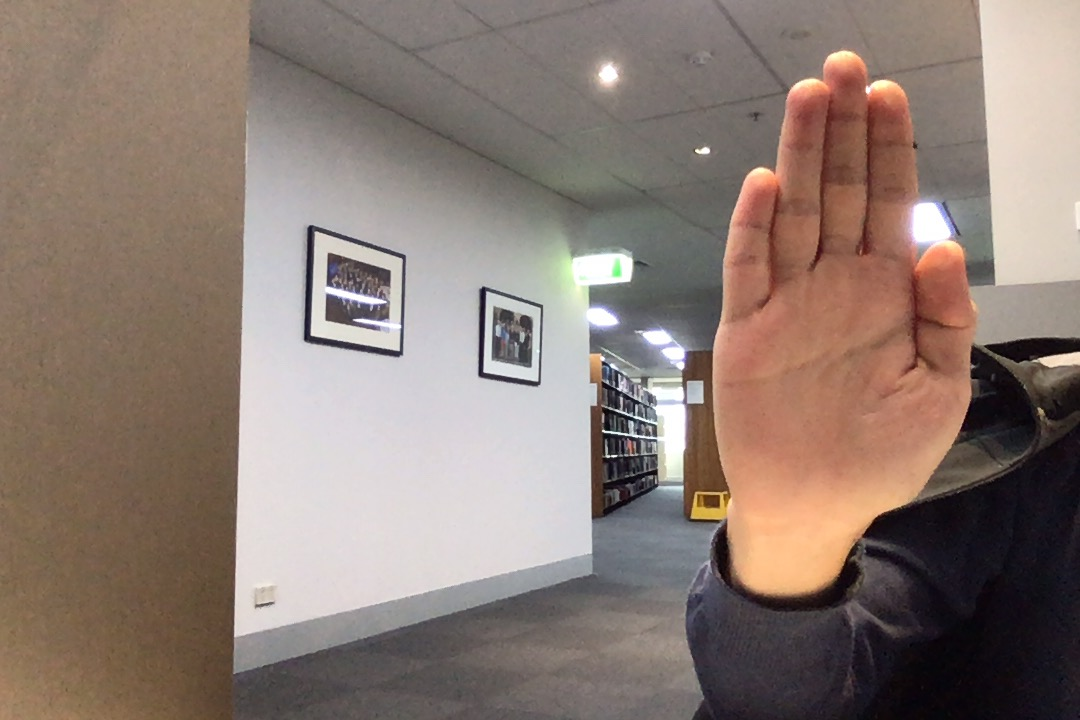palmhand: (696, 37, 988, 537)
